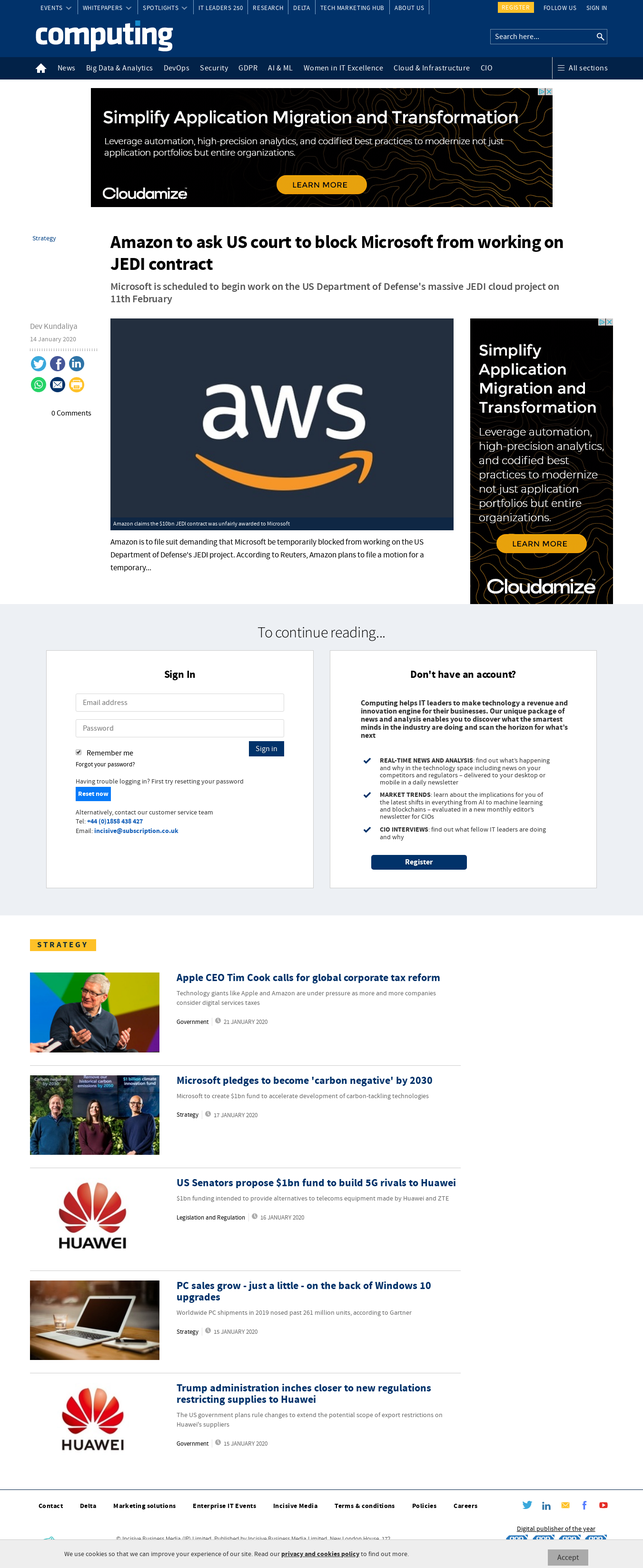fake_button: (256, 169, 374, 202), (492, 529, 590, 565)
